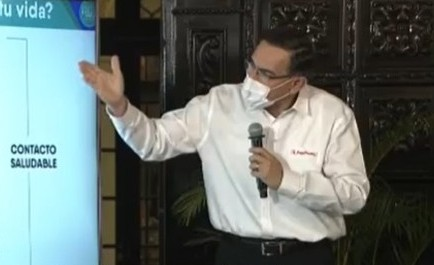with_mask: (235, 39, 308, 114)
